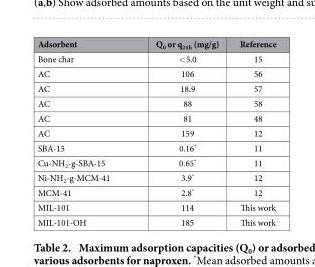table: (36, 37, 275, 227)
table column: (36, 37, 132, 227), (132, 37, 228, 227), (228, 37, 275, 227)
table column header: (36, 37, 275, 51)
table row: (36, 154, 275, 170), (36, 65, 275, 80), (36, 80, 275, 95), (36, 95, 275, 110), (36, 110, 275, 125), (36, 125, 275, 140), (36, 170, 275, 185), (36, 199, 275, 214), (36, 37, 275, 51), (36, 51, 275, 65), (36, 140, 275, 154), (36, 185, 275, 199), (36, 214, 275, 227)
